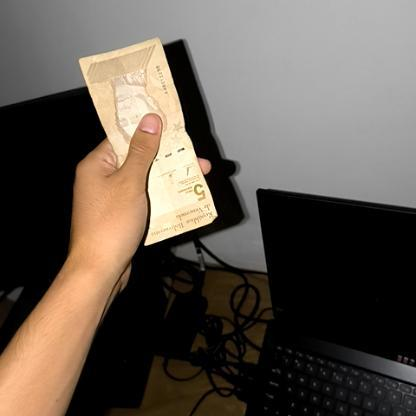five-front-vef: (78, 37, 216, 246)
